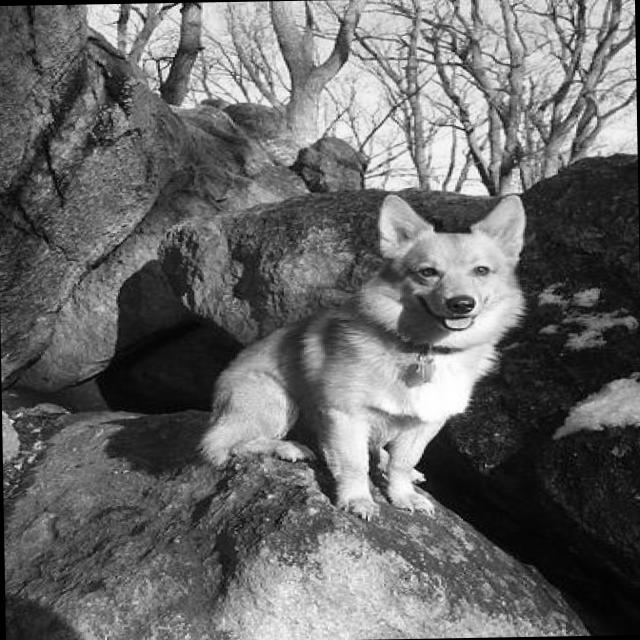sitting: (192, 179, 548, 529)
